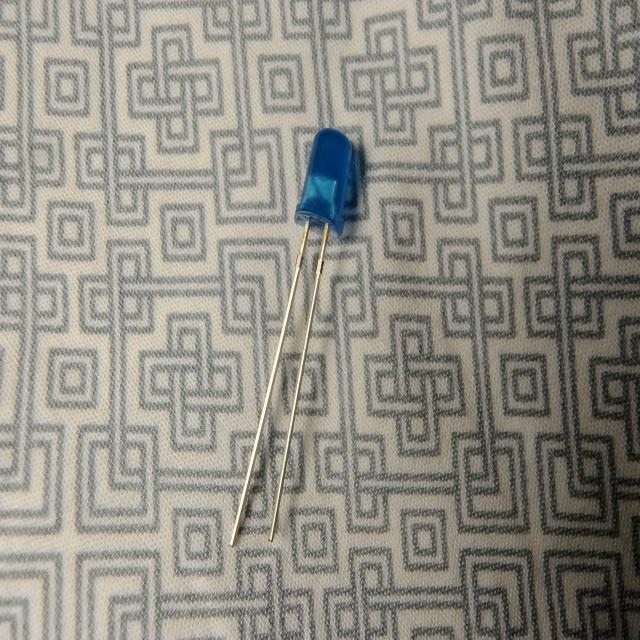blue_led: (293, 126, 356, 238)
